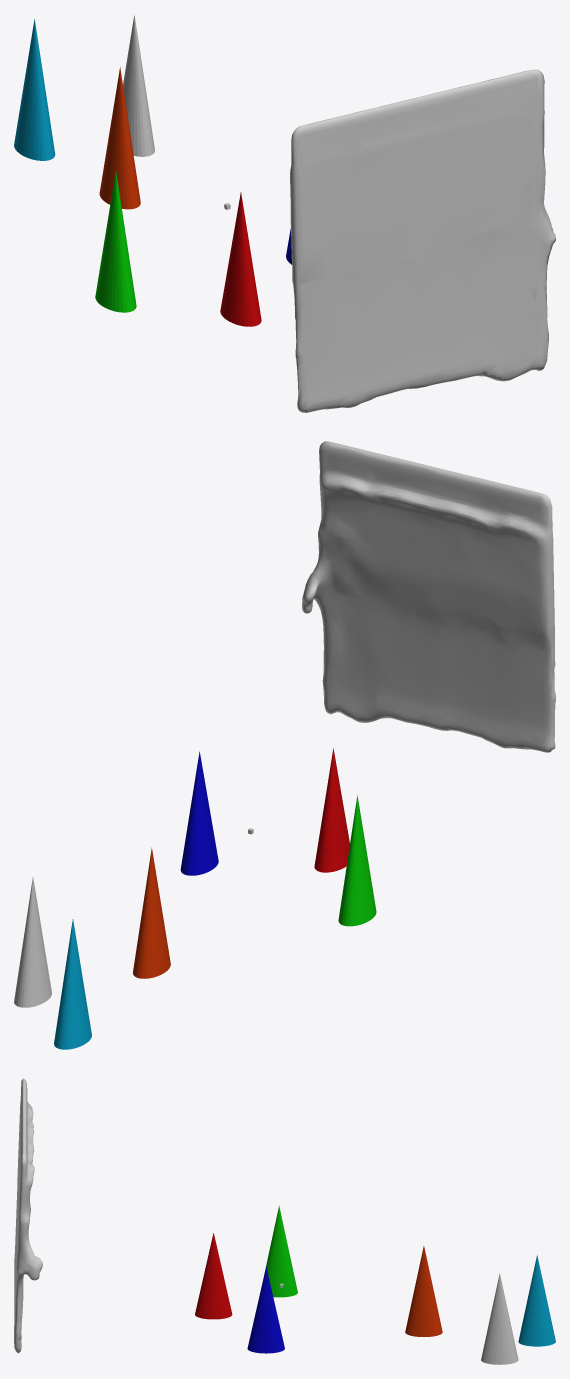
3 views of the same model, one above another, from view 1: azimuth 30°, elevation 25°; view 2: azimuth 150°, elevation 25°; view 3: azimuth 270°, elevation 25° (orthographic). The views are drawn at different scales.
Parts seen in each view (by area): view 1: Liquid_Domain, 円錐.003, 円錐.005, 円錐.001, 円錐.004, 円錐; view 2: Liquid_Domain, 円錐.003, 円錐.004, 円錐.005, 円錐, 円錐.002, 円錐.001; view 3: Liquid_Domain, 円錐.005, 円錐, 円錐.004, 円錐.002, 円錐.001, 円錐.003.
Boxes of the visible parts, x1,y1,x2,y2 form: Liquid_Domain: (290,69,555,412); 円錐.003: (95,171,136,312); 円錐.005: (14,19,55,160); 円錐.001: (220,192,261,326); 円錐.004: (99,67,140,209); 円錐: (123,14,154,156); Liquid_Domain: (302,441,555,752); 円錐.003: (338,795,376,926); 円錐.004: (133,847,170,978); 円錐.005: (54,919,91,1049); 円錐: (14,877,51,1007); 円錐.002: (180,751,218,875); 円錐.001: (314,748,349,872); Liquid_Domain: (14,1078,42,1353); 円錐.005: (518,1255,555,1346); 円錐: (481,1273,518,1364); 円錐.004: (405,1246,442,1336); 円錐.002: (247,1267,284,1353); 円錐.001: (195,1233,232,1319); 円錐.003: (264,1205,297,1297).
Size of the model in its own units: 128 by 158 by 346.
